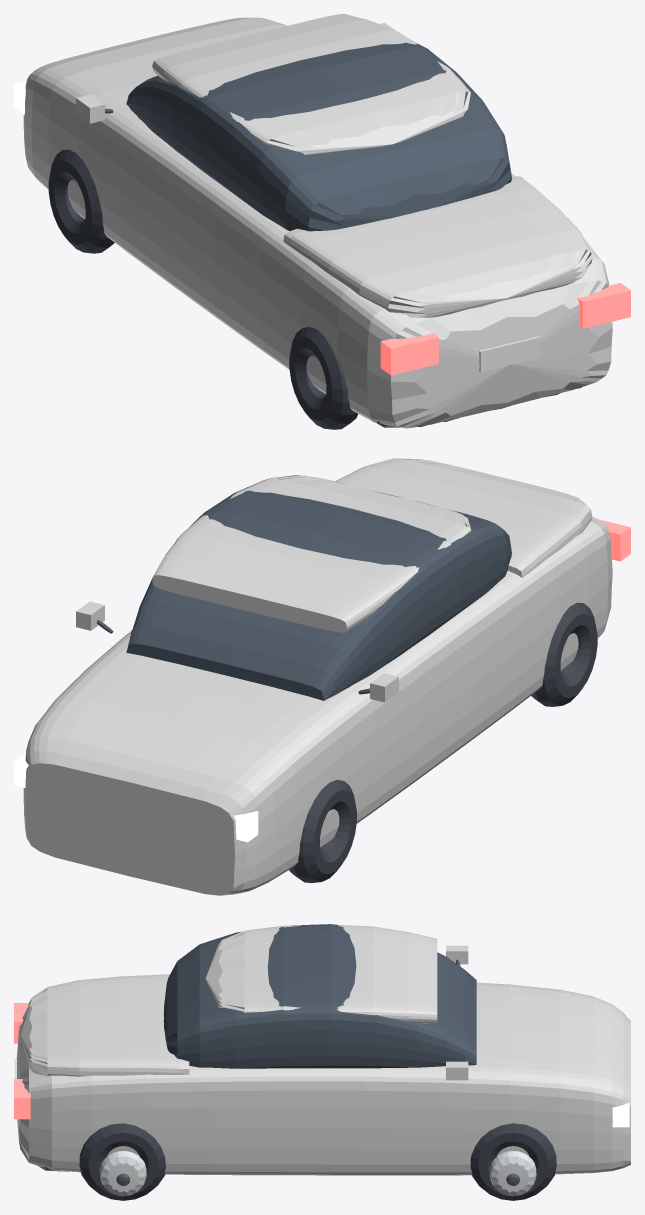
Rendered from carro.glb.
3 renders of one model, top to bottom at view 1: azimuth 30°, elevation 25°; view 2: azimuth 150°, elevation 25°; view 3: azimuth 270°, elevation 25°, orthographic. The views are drawn at different scales.
Parts seen in each view (by area): view 1: Sedan, WheelRL, WheelFL; view 2: Sedan, WheelFL, WheelRL; view 3: Sedan, WheelFR, WheelRR.
Boxes of the visible parts, x1,y1,x2,y2 form: Sedan: (14, 14, 630, 428); WheelRL: (289, 327, 357, 429); WheelFL: (48, 149, 114, 253); Sedan: (14, 458, 630, 895); WheelFL: (289, 779, 356, 883); WheelRL: (531, 602, 597, 706); Sedan: (14, 924, 630, 1175); WheelFR: (470, 1123, 556, 1200); WheelRR: (79, 1123, 165, 1200).
Size of the model in its own units: 2.06 by 1.5 by 4.4.
